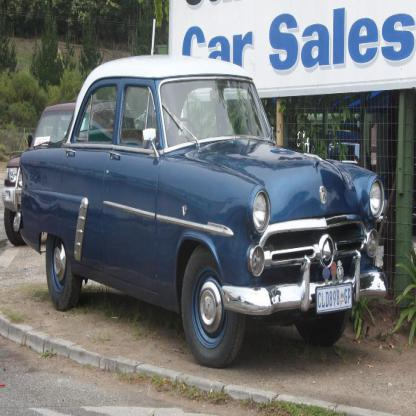Car: (13, 55, 388, 368), (2, 98, 136, 245)
